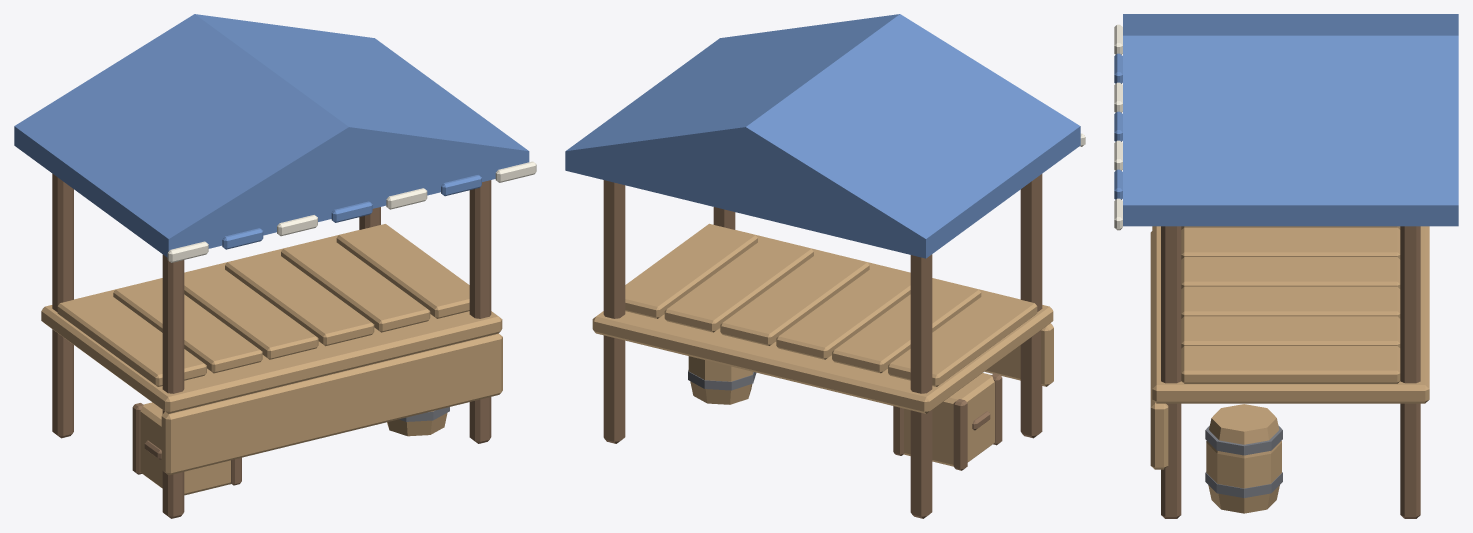
Rendered from medieval-mmo-starter-realm-market-stall-blue-f5cbc408.glb.
3 renders of one model, left to right at view 1: azimuth 30°, elevation 25°; view 2: azimuth 150°, elevation 25°; view 3: azimuth 270°, elevation 25°, orthographic. The views are drawn at different scales.
Visible parts, largest first — view 1: market-stall-blue; view 2: market-stall-blue; view 3: market-stall-blue.
Boxes of the visible parts, x1,y1,x2,y2 form: market-stall-blue: (14, 14, 536, 518); market-stall-blue: (565, 14, 1085, 518); market-stall-blue: (1114, 14, 1458, 518).
Size of the model in its own units: 3.16 by 3.02 by 2.36.
